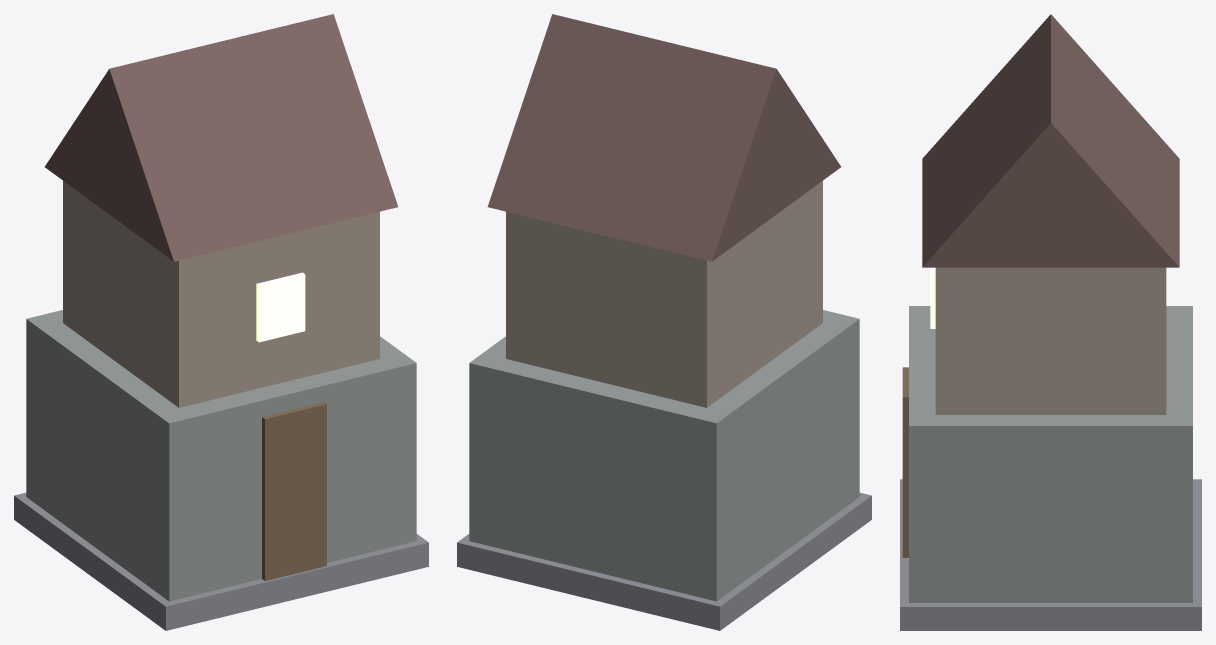
Rendered from house_b.glb.
3 renders of one model, left to right at view 1: azimuth 30°, elevation 25°; view 2: azimuth 150°, elevation 25°; view 3: azimuth 270°, elevation 25°, orthographic.
Parts seen in each view (by area): view 1: house_b; view 2: house_b; view 3: house_b.
Part boxes in pixels (bbox=[...]): house_b: bbox=[14, 14, 428, 630]; house_b: bbox=[457, 14, 871, 630]; house_b: bbox=[900, 14, 1201, 630].
Bounding box in the file's own units: 3.4 × 6.2 × 3.4.
